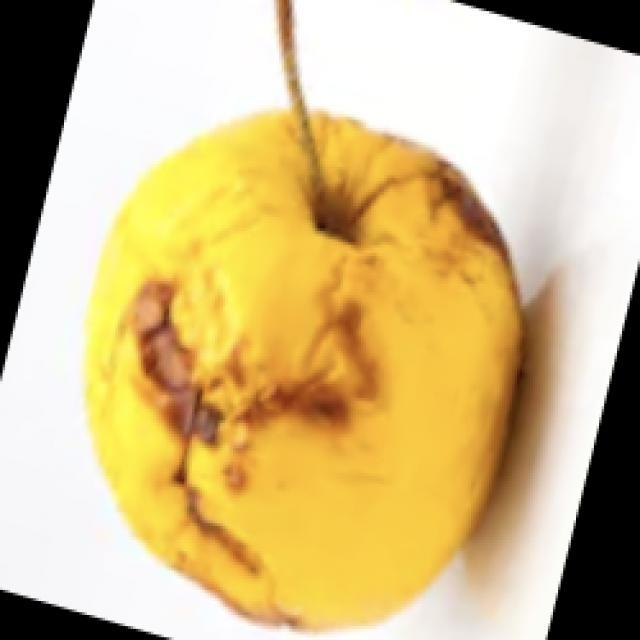Rotten: (72, 112, 543, 633)
